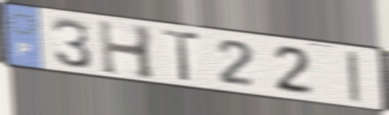2: (271, 44, 316, 97), (216, 38, 259, 89)
3: (49, 16, 94, 70)
H: (96, 17, 159, 82)
I: (344, 49, 363, 105)
T: (160, 27, 203, 84)
